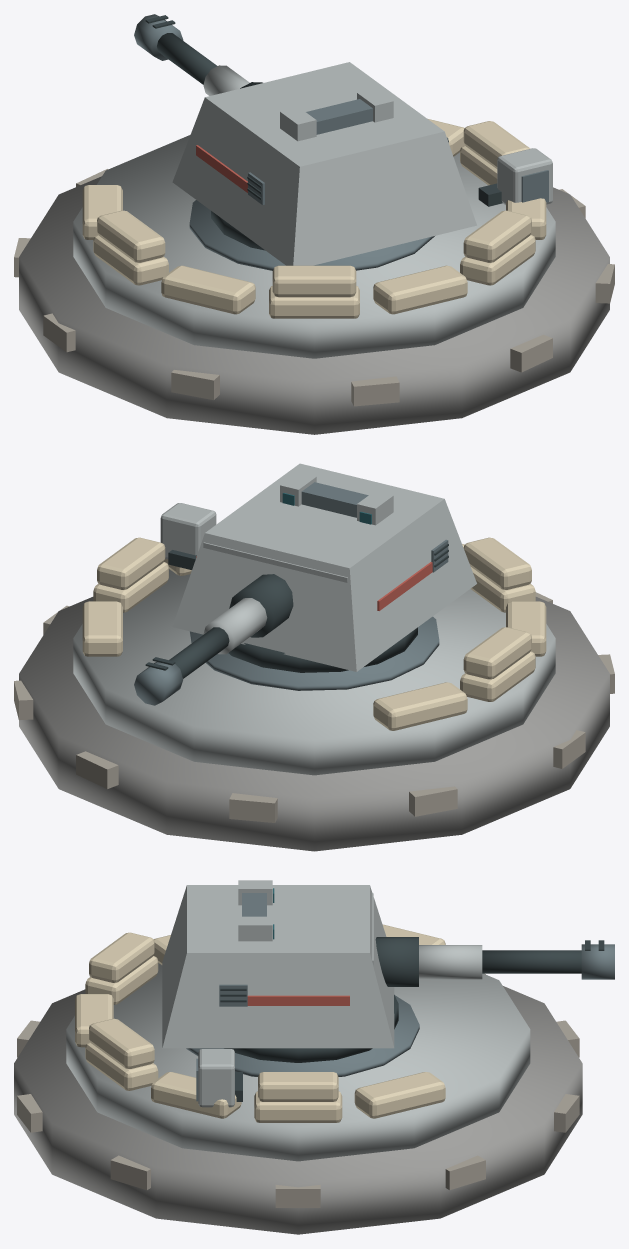
The model's file is ENE_CoastalBattery_Art.fbx.
3 renders of one model, top to bottom at view 1: azimuth 30°, elevation 25°; view 2: azimuth 150°, elevation 25°; view 3: azimuth 270°, elevation 25°, orthographic. The views are drawn at different scales.
Visible parts, largest first — view 1: WeatheredRockFoundation, FacetedGunHouse, ConcreteEmplacement, TurretRingWell, SandbagLow.002, SandbagLow.004, SandbagUpper.001, SandbagUpper, SandbagUpper.002, SandbagLow.003, ServiceBox, SandbagUpper.003 (+18 smaller); view 2: WeatheredRockFoundation, ConcreteEmplacement, FacetedGunHouse, TurretRingWell, SandbagLow, SandbagUpper, SandbagUpper.003, SandbagUpper.001, SandbagLow.008, ServiceBox, TraverseRing, BreechSleeve (+17 smaller); view 3: WeatheredRockFoundation, ConcreteEmplacement, FacetedGunHouse, TurretRingWell, SandbagLow.008, SandbagUpper.003, MainGunTube, BarrelJacket, SandbagUpper.002, SandbagUpper.001, ServiceBox, SandbagLow.006 (+18 smaller).
Part boxes in pixels (<box>): WeatheredRockFoundation: <box>19,176,609,434</box>; FacetedGunHouse: <box>172,62,476,265</box>; ConcreteEmplacement: <box>73,135,555,358</box>; TurretRingWell: <box>189,200,434,270</box>; SandbagLow.002: <box>161,265,255,314</box>; SandbagLow.004: <box>373,265,467,314</box>; SandbagUpper.001: <box>272,265,356,297</box>; SandbagUpper: <box>97,210,165,262</box>; SandbagUpper.002: <box>463,210,531,262</box>; SandbagLow.003: <box>269,286,359,318</box>; ServiceBox: <box>497,148,552,204</box>; SandbagUpper.003: <box>463,121,530,168</box>; WeatheredRockFoundation: <box>19,597,609,851</box>; ConcreteEmplacement: <box>73,569,555,775</box>; FacetedGunHouse: <box>172,463,476,671</box>; TurretRingWell: <box>189,616,439,690</box>; SandbagLow: <box>373,682,467,730</box>; SandbagUpper: <box>463,627,531,679</box>; SandbagUpper.003: <box>97,537,165,589</box>; SandbagUpper.001: <box>463,537,531,589</box>; SandbagLow.008: <box>82,601,122,656</box>; ServiceBox: <box>160,503,216,559</box>; TraverseRing: <box>228,627,417,672</box>; BreechSleeve: <box>229,574,293,637</box>; WeatheredRockFoundation: <box>14,986,582,1234</box>; ConcreteEmplacement: <box>66,963,530,1161</box>; FacetedGunHouse: <box>162,885,394,1048</box>; TurretRingWell: <box>186,995,419,1076</box>; SandbagLow.008: <box>354,1072,445,1118</box>; SandbagUpper.003: <box>258,1072,338,1101</box>; MainGunTube: <box>482,950,581,973</box>; BarrelJacket: <box>419,945,482,979</box>; SandbagUpper.002: <box>89,1018,154,1068</box>; SandbagUpper.001: <box>89,932,154,982</box>; ServiceBox: <box>198,1049,234,1107</box>; SandbagLow.006: <box>151,1072,241,1118</box>.
Bounding box in the file's own units: 552 × 224 × 575.
